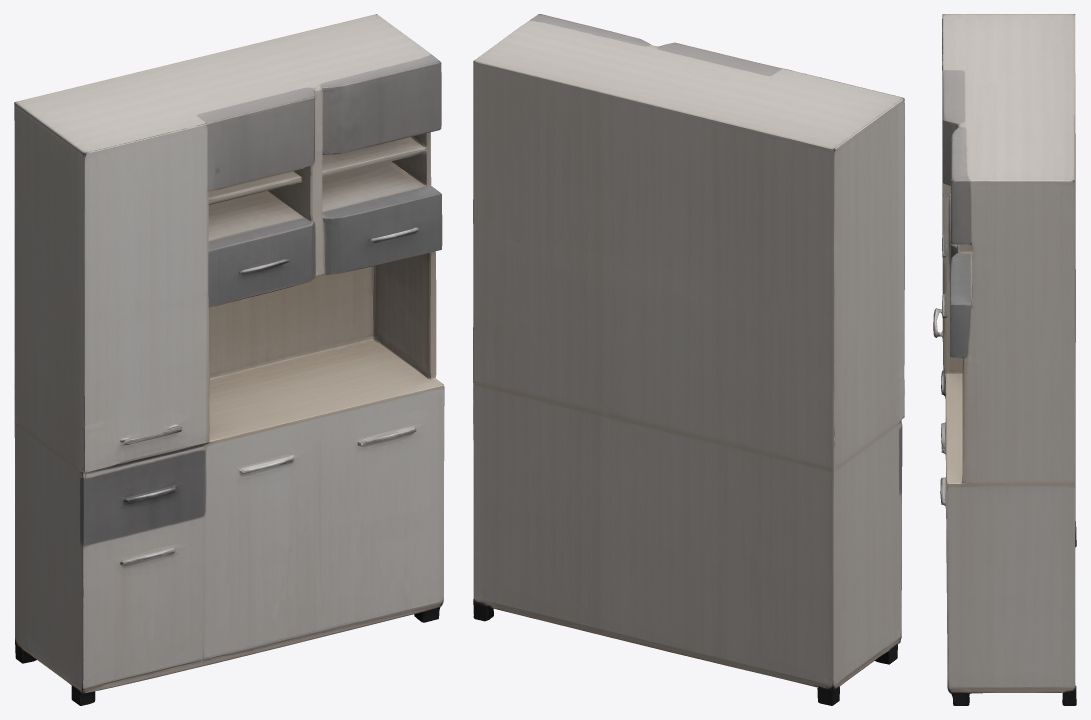
The model's file is romeo_kitchen_combo_baf2.glb.
3 renders of one model, left to right at view 1: azimuth 30°, elevation 25°; view 2: azimuth 150°, elevation 25°; view 3: azimuth 270°, elevation 25°, orthographic. The views are drawn at different scales.
Visible parts, largest first — view 1: world; view 2: world; view 3: world.
Part boxes in pixels (x1=…): world: x1=14, y1=14, x2=444, y2=705; world: x1=473, y1=14, x2=904, y2=705; world: x1=933, y1=14, x2=1076, y2=705.
Bounding box in the file's own units: 0.6809 × 1 × 0.2468.
Materials: 1 (1 with a texture image).
